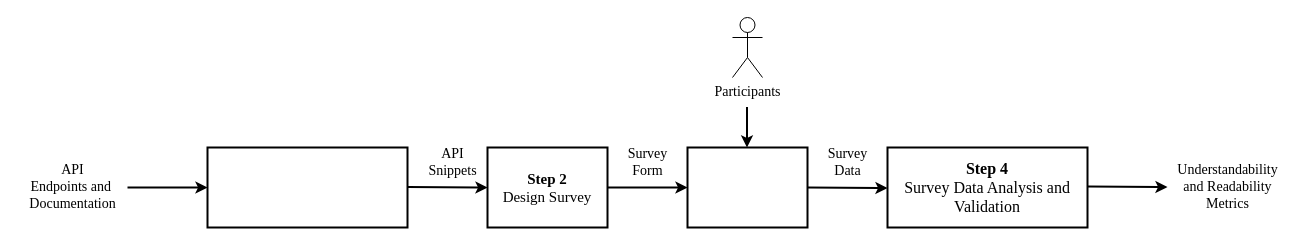
The diagram is 1304 pixels wide and 246 high, and some of its shapes have lost their labels. The centre of each missing label's shape, as x and y in pixels:
"Step 1 Open API Specifications of Patterns and Antipatterns Instances" goes at (307,187).
"Step 3 Conduct Survey" goes at (747,187).
